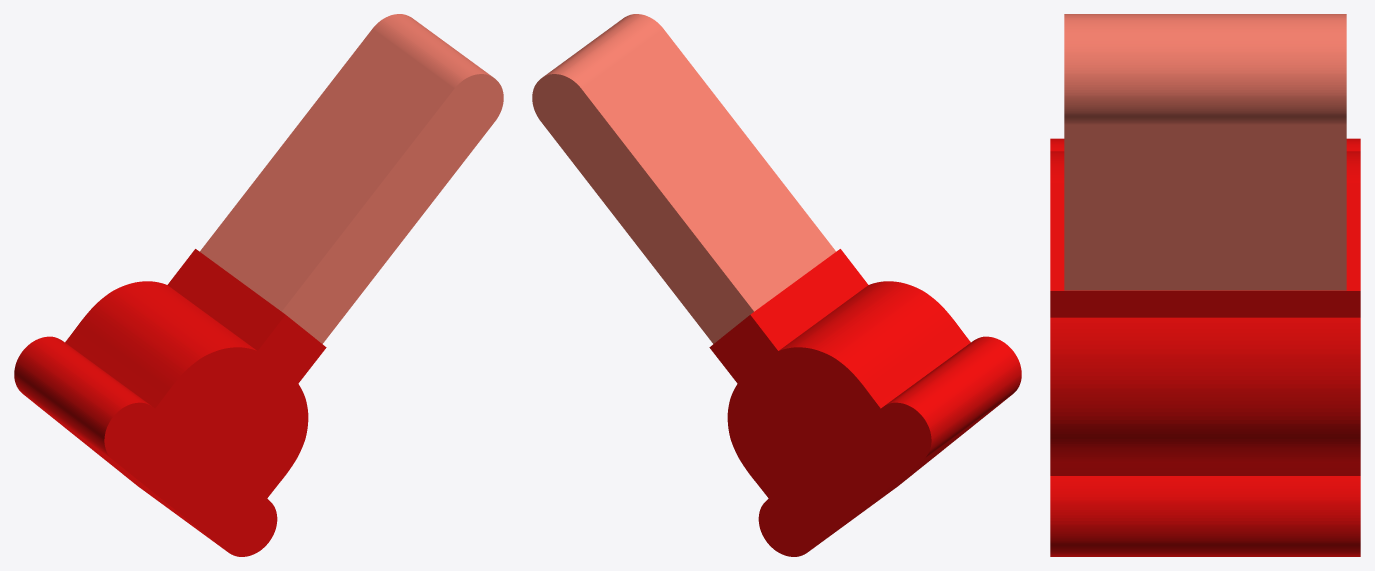
Rendered from U+1FAA0.obj.
3 renders of one model, left to right at view 1: azimuth 30°, elevation 25°; view 2: azimuth 150°, elevation 25°; view 3: azimuth 270°, elevation 25°, orthographic. The views are drawn at different scales.
Parts seen in each view (by area): view 1: U+1FAA0_layer01_obj00, U+1FAA0_layer00_obj00; view 2: U+1FAA0_layer01_obj00, U+1FAA0_layer00_obj00; view 3: U+1FAA0_layer01_obj00, U+1FAA0_layer00_obj00.
Part boxes in pixels (<box>): U+1FAA0_layer01_obj00: <box>14,249,326,556</box>; U+1FAA0_layer00_obj00: <box>200,14,503,343</box>; U+1FAA0_layer01_obj00: <box>709,249,1021,556</box>; U+1FAA0_layer00_obj00: <box>532,14,835,343</box>; U+1FAA0_layer01_obj00: <box>1050,138,1360,556</box>; U+1FAA0_layer00_obj00: <box>1064,14,1346,290</box>.
Bounding box in the file's own units: 0.5678 × 0.5677 × 0.22.
